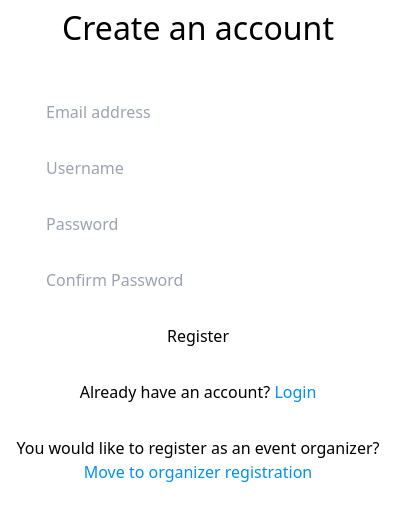
Test: RegisterForm › Validation › Empty Password
Input values
In the field with placeholder "Username": [198, 168] box [38, 148, 358, 188], type "Test"
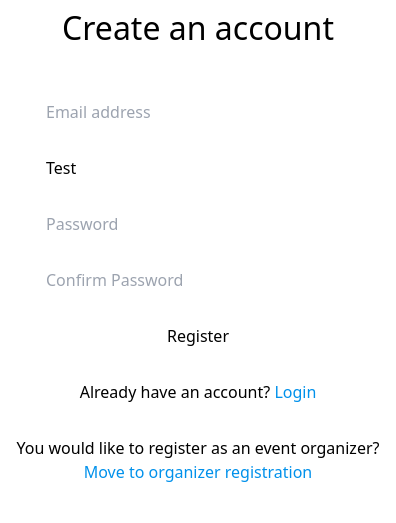
In the field with placeholder "Email address": [198, 112] box [38, 92, 358, 132], type "test@example.com"
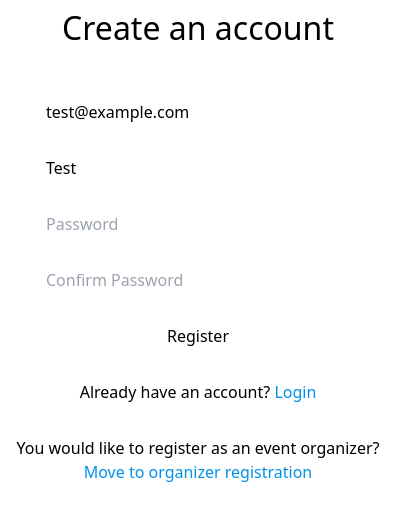
Click the button "Register": [198, 336] box [38, 316, 358, 356]
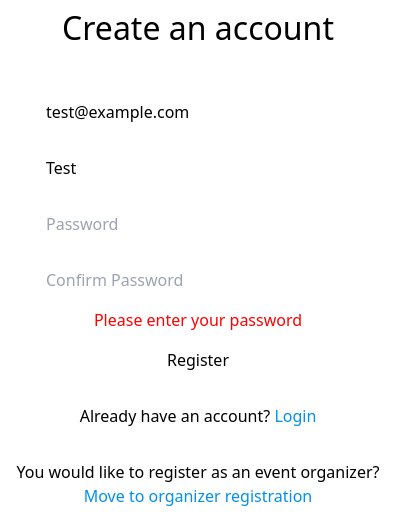
Check: the text "Please enter your password" is shown, box [94, 308, 302, 332]
